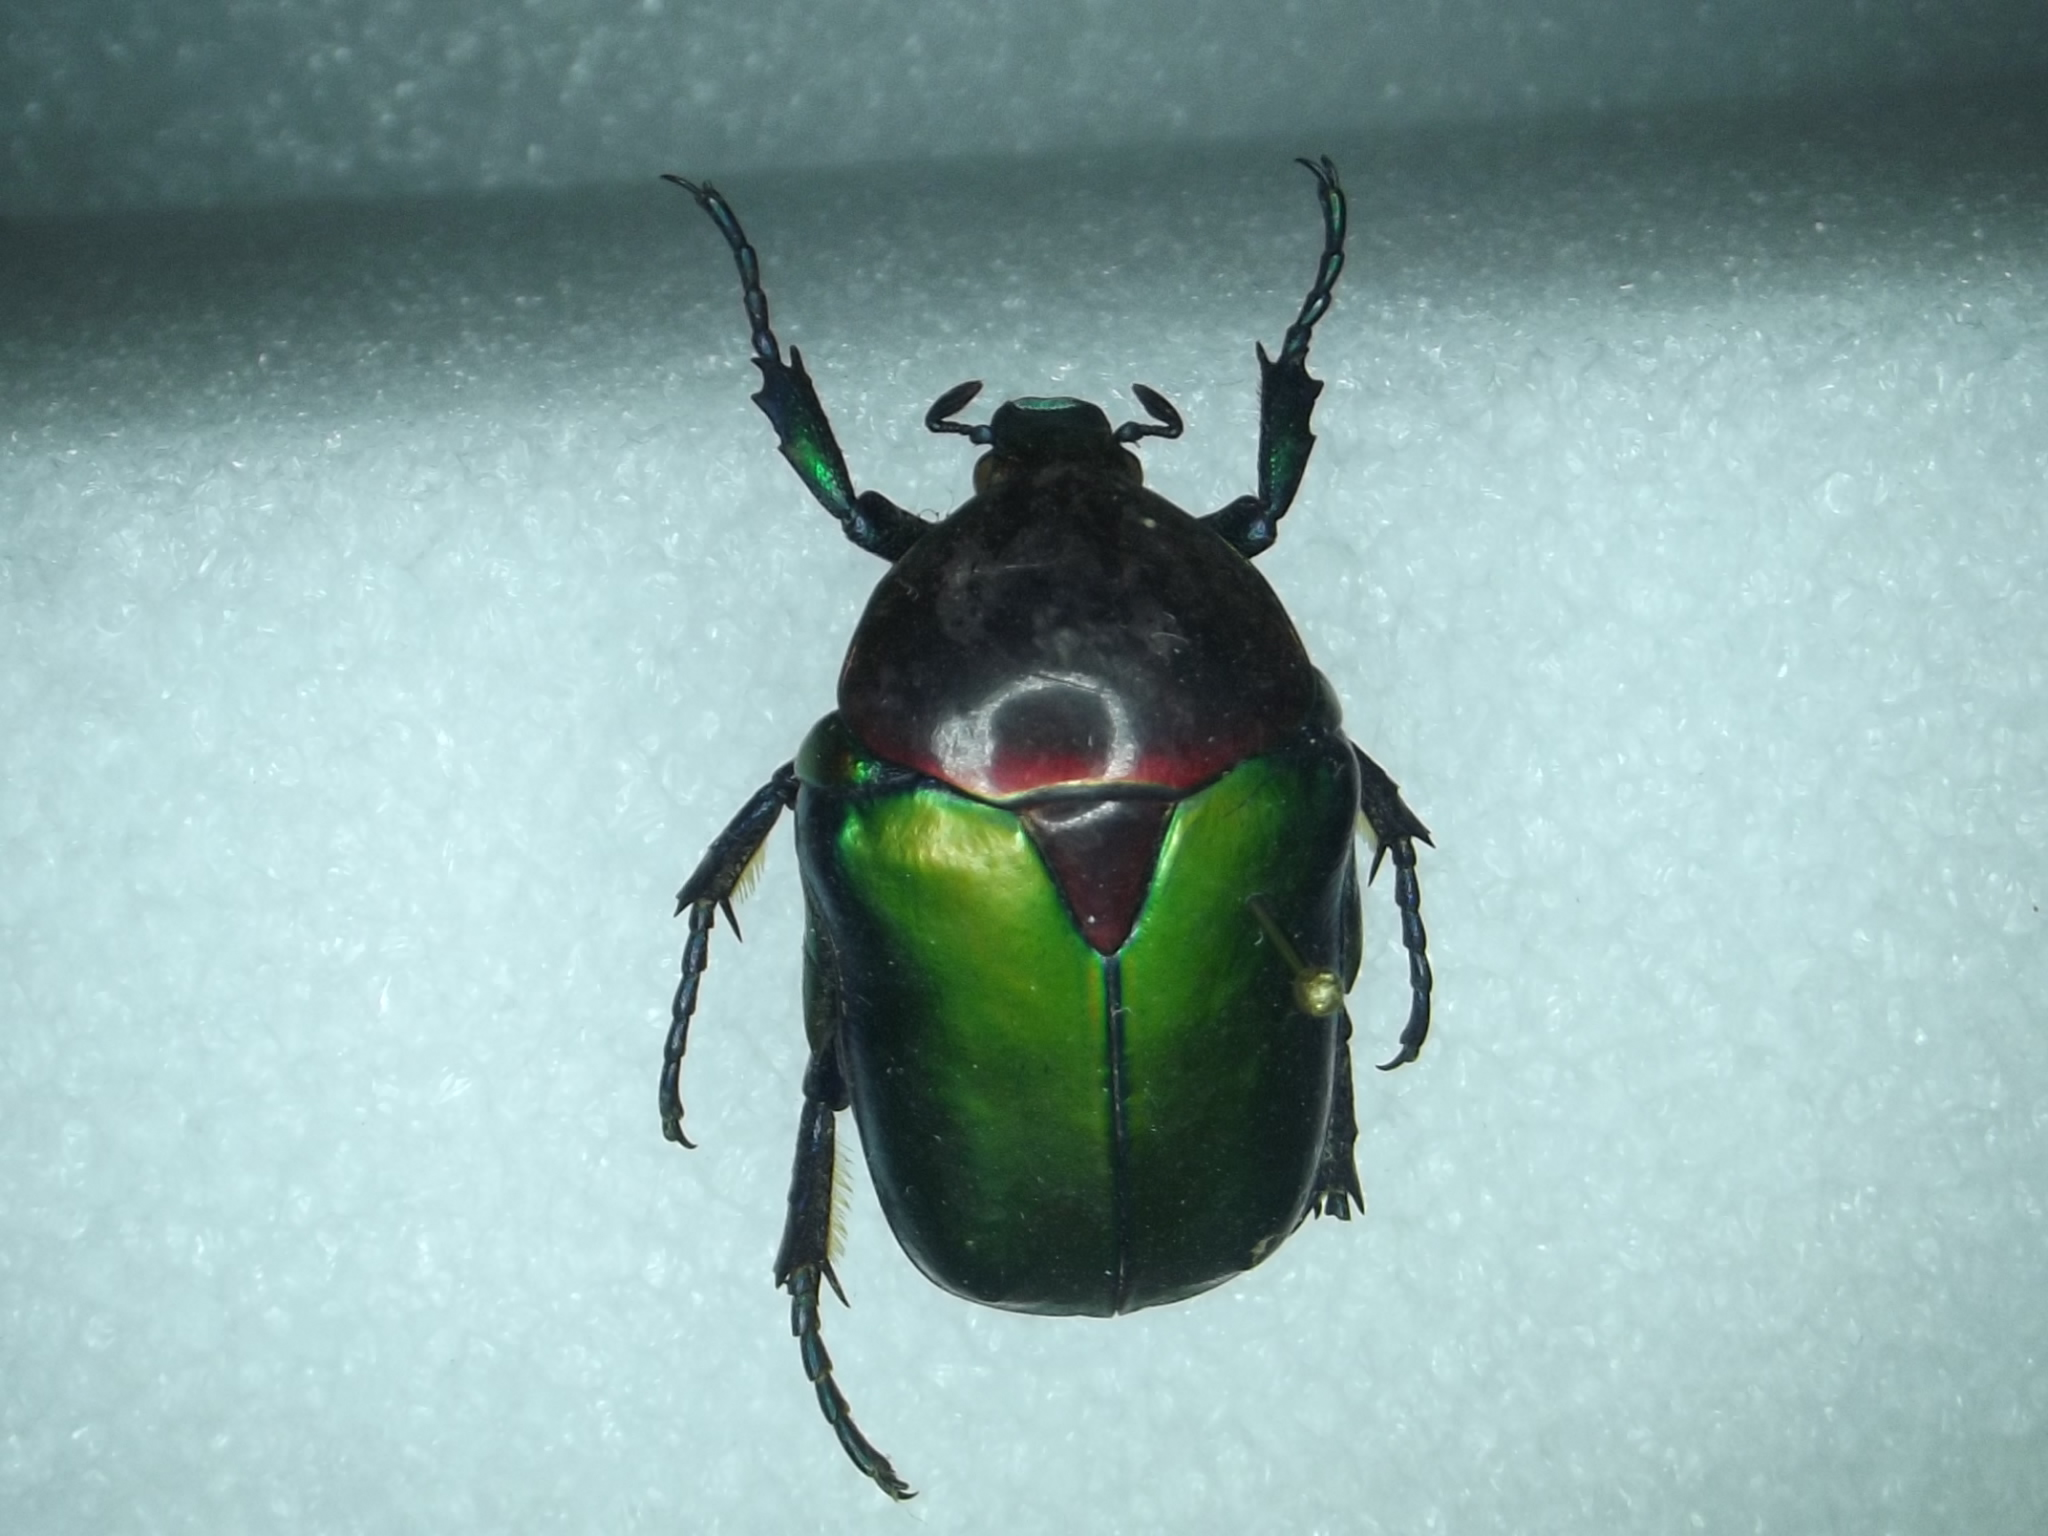Protaetia_speciosa_jousseliniw: (579, 134, 1455, 1513)
